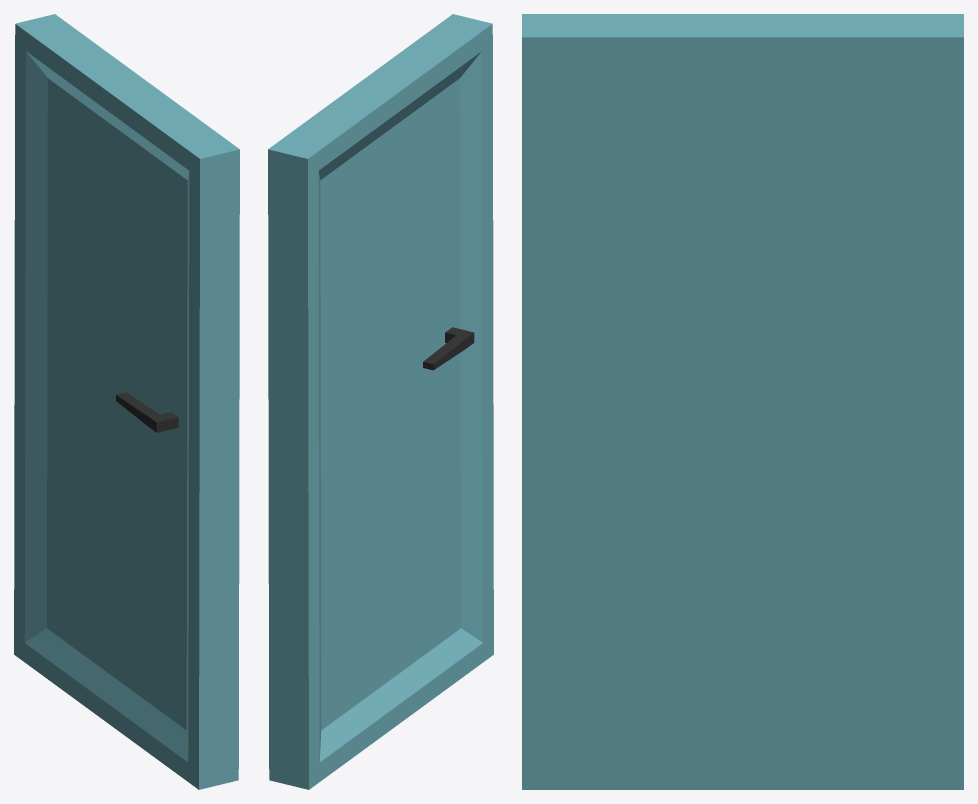
Rendered from B01_porte_1.fbx.
3 renders of one model, left to right at view 1: azimuth 30°, elevation 25°; view 2: azimuth 150°, elevation 25°; view 3: azimuth 270°, elevation 25°, orthographic. The views are drawn at different scales.
Visible parts, largest first — view 1: B01_porte_1; view 2: B01_porte_1; view 3: B01_porte_1.
Part boxes in pixels (box(x1,y1,x2,y2)): B01_porte_1: box(14, 14, 239, 789); B01_porte_1: box(268, 14, 493, 789); B01_porte_1: box(522, 14, 963, 789).
Bounding box in the file's own units: 19.43 × 224 × 119.
